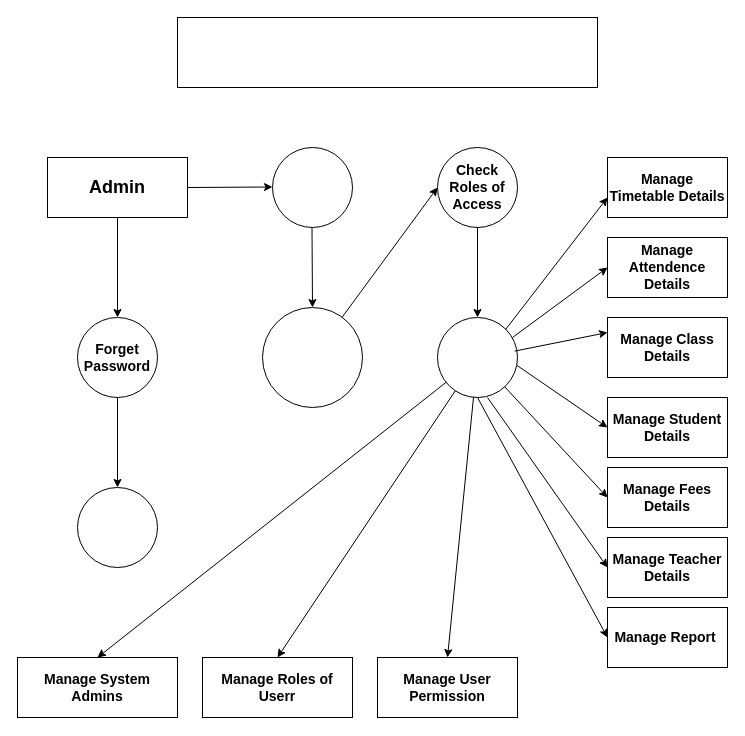
This 745x736 diagram has some shape labels left out. Here are the shapes that lost their labels. From the top down, the centre of each, then its label:
At [387,52]: "Students Information System".
At [312,187]: "Login to System".
At [312,357]: "Check Credentials".
At [477,357]: "Manage Modules".
At [117,527]: "Send Email to User".
